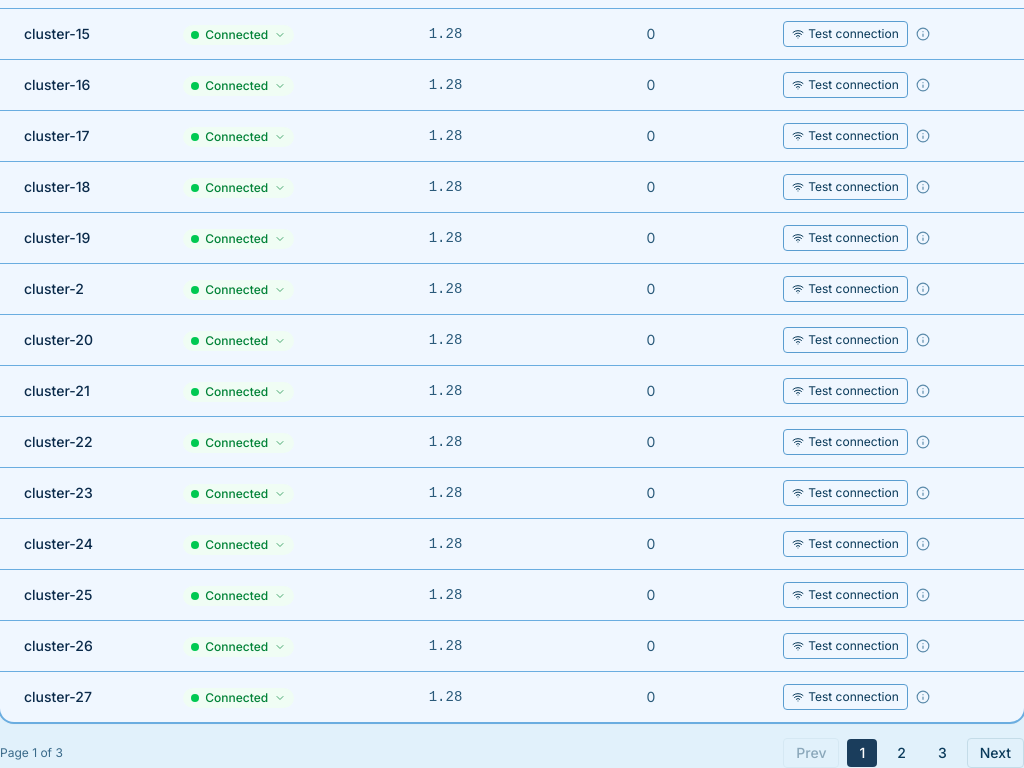
Test: ClustersOverview client-side pagination + sort (S1) › pages the managed clusters list at the 20-per-page default, and Next reaches later clusters
The width and height of the screenshot is (1024, 768).
(page scrolled)
Expected: the text "Page 1 of 3" is shown, left=0, top=745, right=63, bottom=761
Expected: the text "cluster-50" is not shown
Click the button "Next": x=995, y=753 left=967, top=738, right=1023, bottom=767
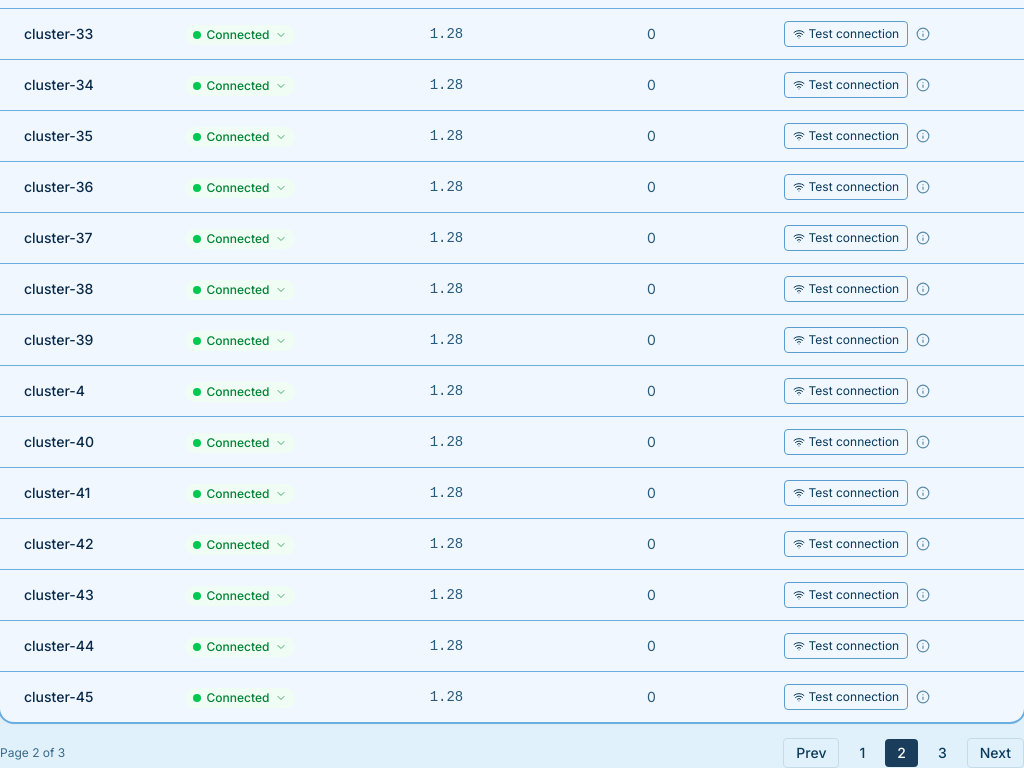
Expected: the text "Page 2 of 3" is shown, left=0, top=745, right=65, bottom=761
Click the button "Next": x=995, y=753 left=967, top=738, right=1023, bottom=767
(page scrolled)
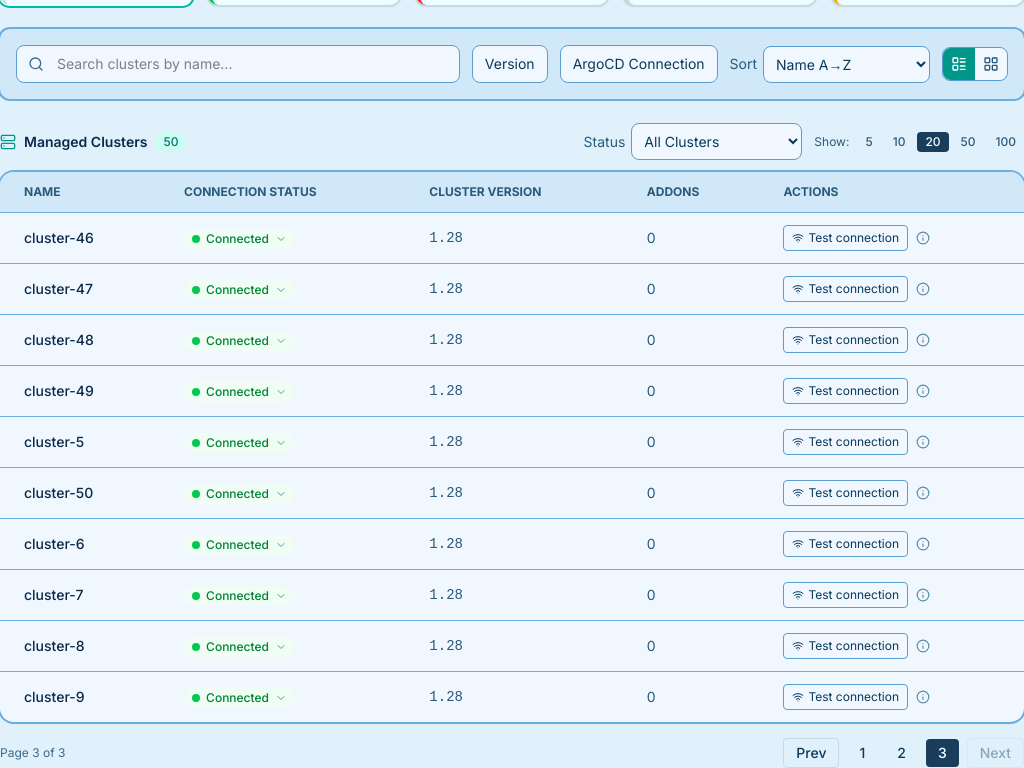
Expected: the text "Page 3 of 3" is shown, left=0, top=745, right=65, bottom=761
Expected: the button "Next" is disabled, left=967, top=738, right=1023, bottom=767
